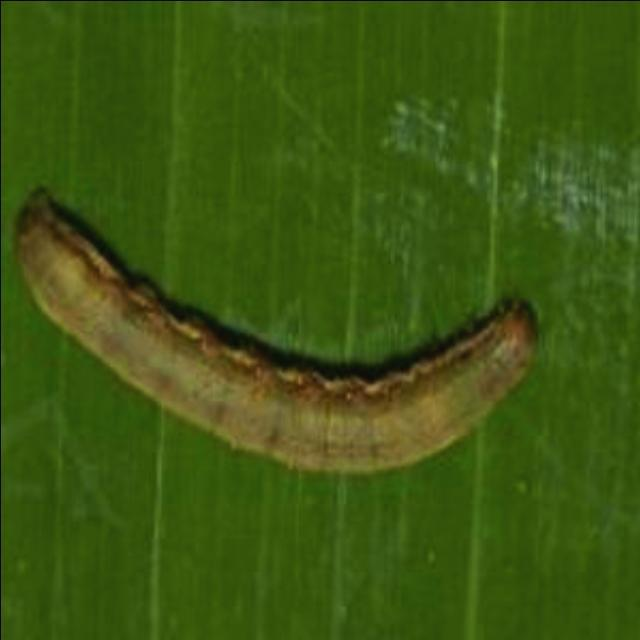Tobacco cutworm: (1, 145, 584, 529)
